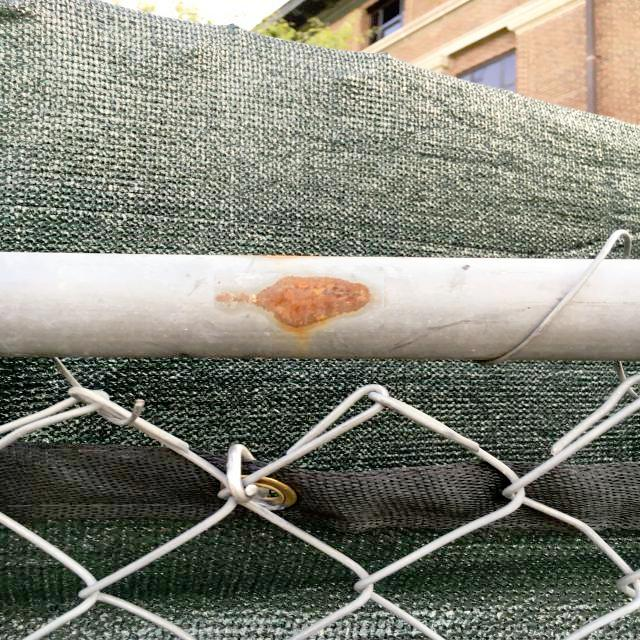Corrosion: (216, 276, 371, 328)
